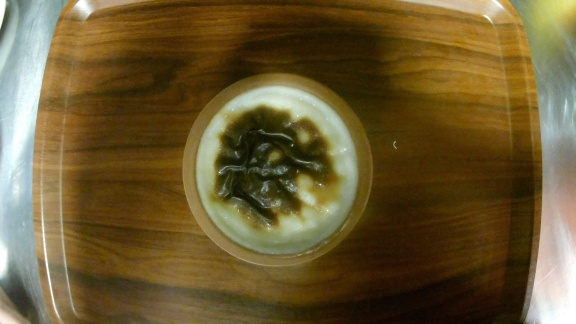sutlac: (183, 72, 374, 265)
